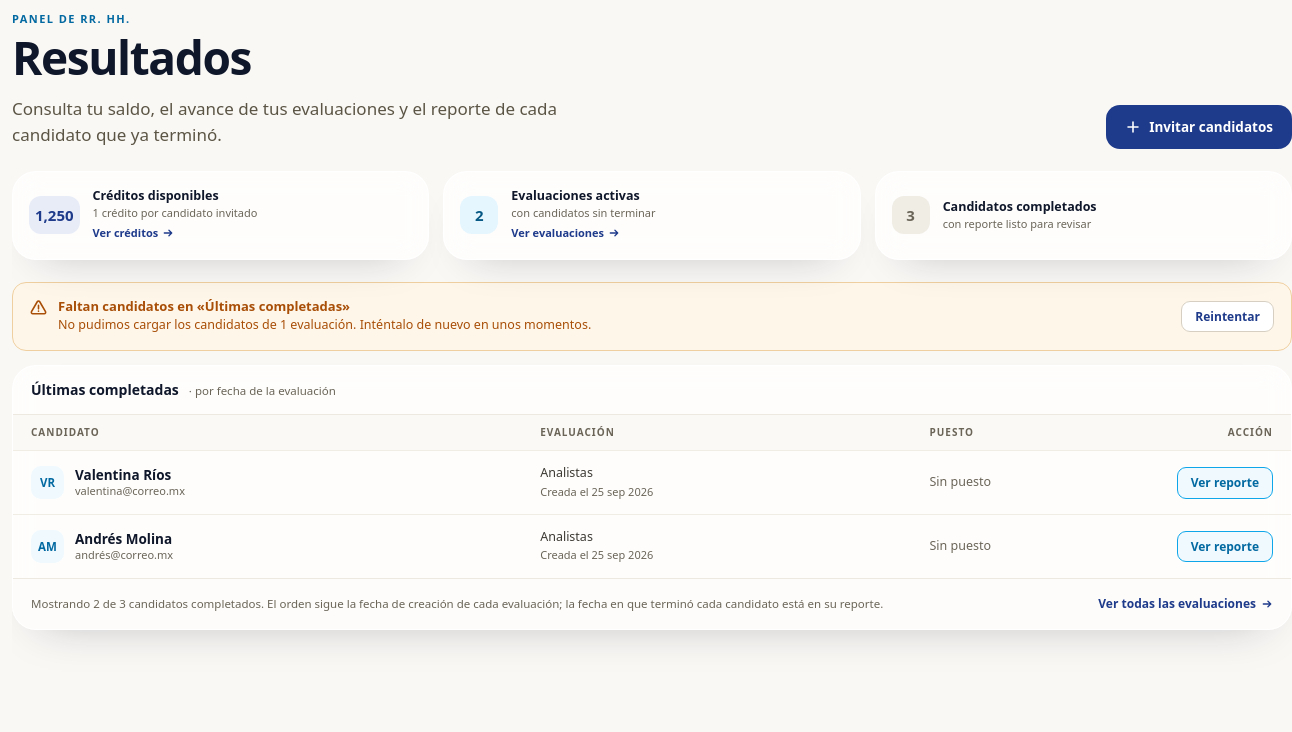
Test case: ResumenPage · «Últimas completadas» (agregación limitada, PB-05) › si falla una parte: muestra lo que llegó y un aviso con «Reintentar»
Expected: the text "Valentina Ríos" is shown, [75,467,185,484]
Expected: the message shows "Faltan candidatos en «Últimas completadas»", [58,297,350,315]
Click the button "Reintentar".
click(1228, 316)  # box [1181,301,1274,332]
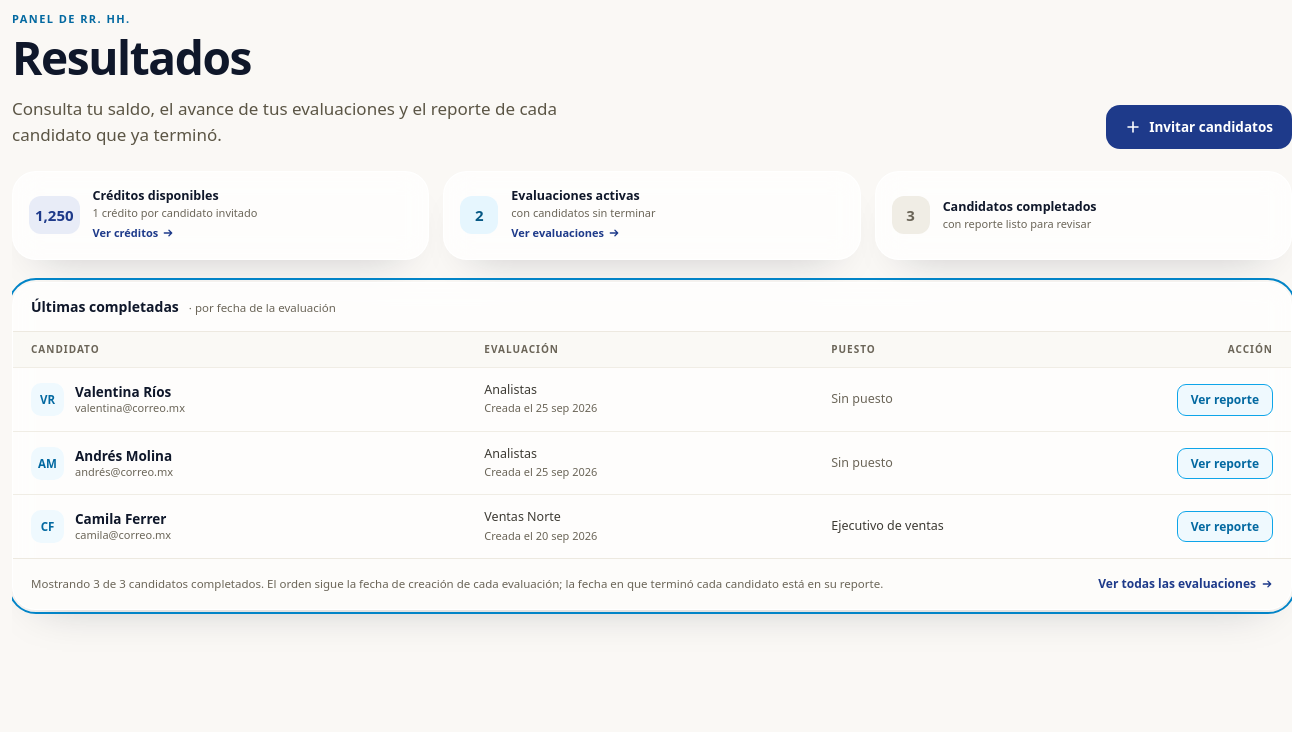
Result: the text "Camila Ferrer" is shown at [75,511,171,528]
Result: the text "Faltan candidatos en «Últimas completadas»" is gone
